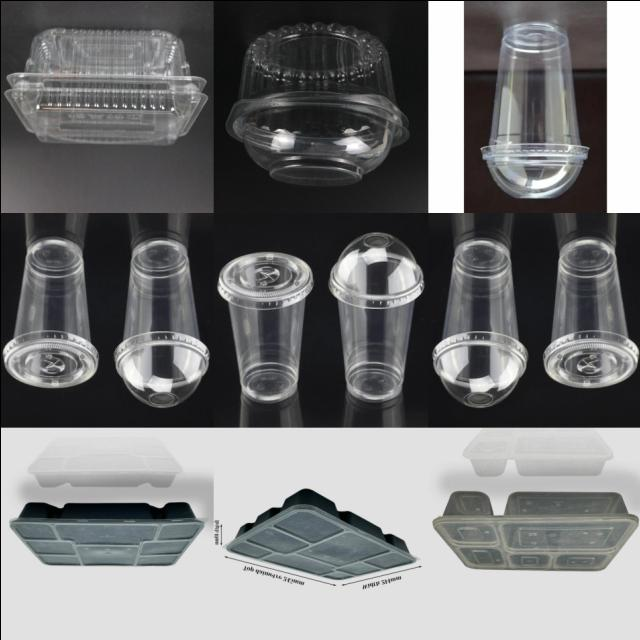plastik: (226, 22, 408, 185), (4, 28, 207, 144), (480, 21, 588, 197), (224, 489, 416, 580), (328, 232, 423, 401), (432, 490, 637, 568), (114, 238, 208, 407), (432, 237, 526, 406), (2, 237, 97, 387), (217, 251, 312, 401), (543, 237, 638, 387), (9, 502, 203, 566)
